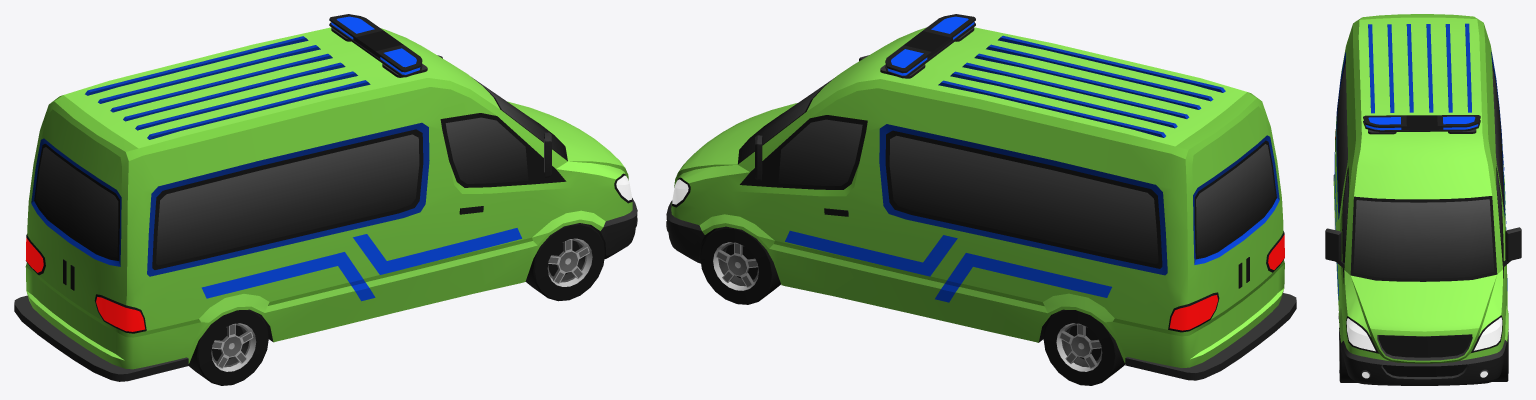
The model's file is Car_013.glb.
3 renders of one model, left to right at view 1: azimuth 30°, elevation 25°; view 2: azimuth 150°, elevation 25°; view 3: azimuth 270°, elevation 25°, orthographic. The views are drawn at different scales.
Parts seen in each view (by area): view 1: Car_013, wheel_0_Car_013_Wheel_1R, wheel_3_Car_013_Wheel_3R; view 2: Car_013, wheel_1_Car_013_Wheel_2L, wheel_2_Car_013_Wheel_3L; view 3: Car_013, wheel_0_Car_013_Wheel_1R, wheel_1_Car_013_Wheel_2L.
Part boxes in pixels (left/top/right/bottom): Car_013: left=14, top=14, right=637, bottom=381; wheel_0_Car_013_Wheel_1R: left=525, top=223, right=605, bottom=301; wheel_3_Car_013_Wheel_3R: left=188, top=309, right=268, bottom=385; Car_013: left=666, top=14, right=1296, bottom=380; wheel_1_Car_013_Wheel_2L: left=700, top=226, right=780, bottom=304; wheel_2_Car_013_Wheel_3L: left=1043, top=309, right=1125, bottom=385; Car_013: left=1325, top=14, right=1521, bottom=385; wheel_0_Car_013_Wheel_1R: left=1339, top=327, right=1357, bottom=382; wheel_1_Car_013_Wheel_2L: left=1492, top=332, right=1508, bottom=381.
Bounding box in the file's own units: 6.17 × 2.71 × 2.35.
Materials: 2 (2 with a texture image).
